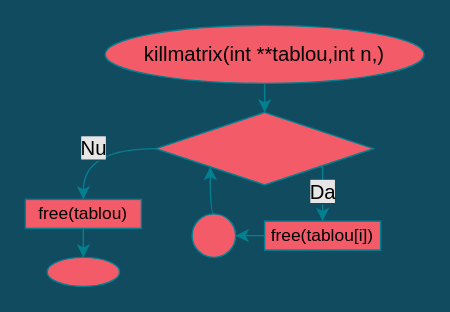
The diagram is 450 pixels wide and 312 high, and some of its shapes have lost their labels. The shapes that lost their labels are listed below. From the top down, each one's centre as x and y in pixels, then its label:
point (263, 148): int i = 0 ; i < n ; i++
point (83, 271): stop
